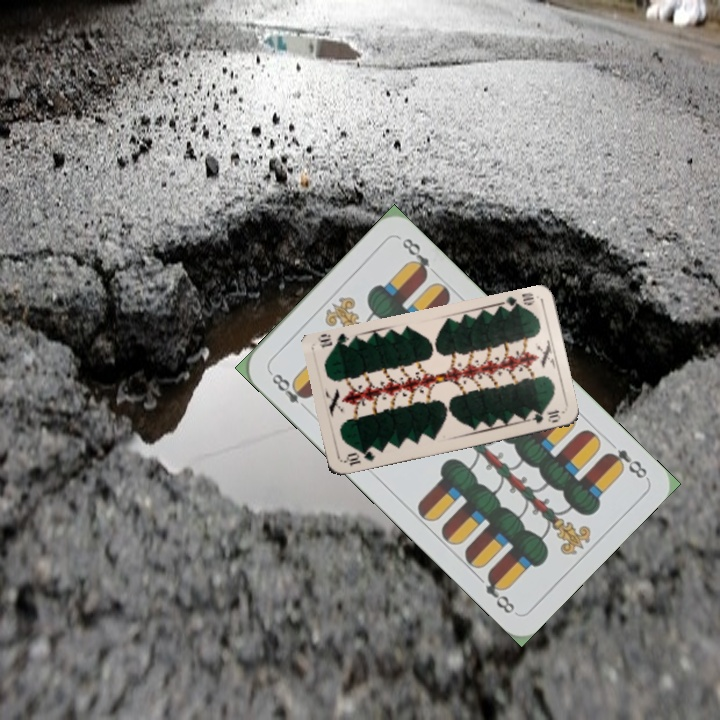E8: (265, 367, 313, 414), (601, 445, 650, 481)
G10: (499, 288, 537, 312), (340, 446, 378, 468)
